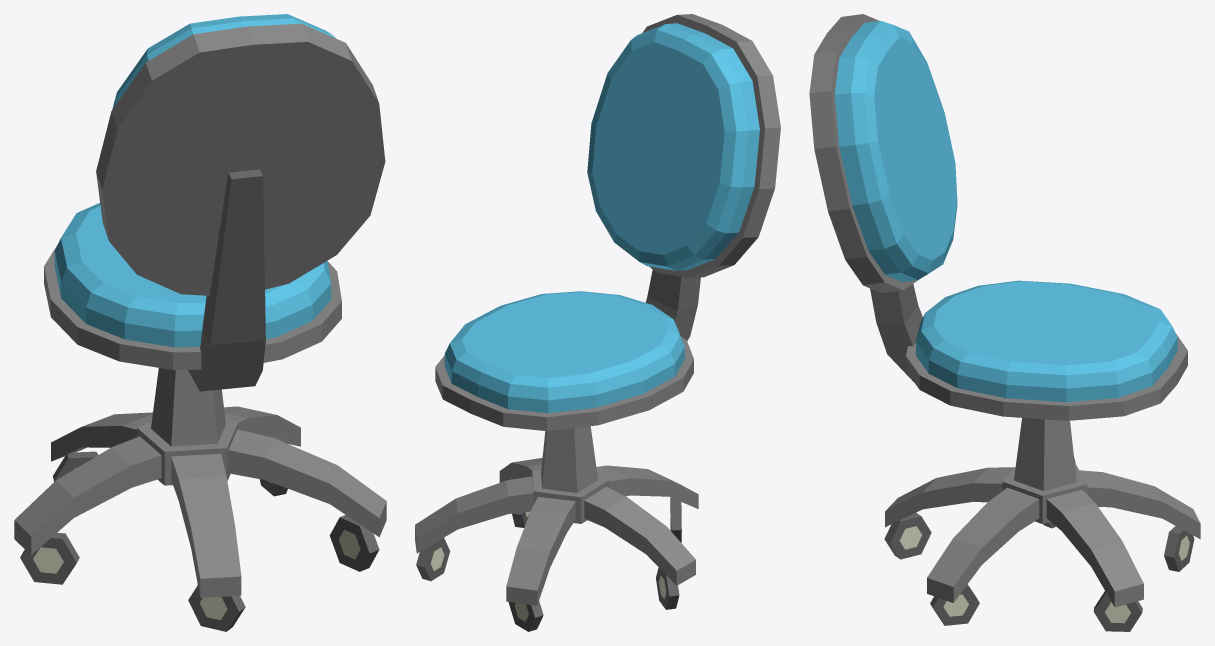
The model's file is chair02-hospital.fbx.
The picture shows the model from 3 angles, left to right: view 1: azimuth 30°, elevation 25°; view 2: azimuth 150°, elevation 25°; view 3: azimuth 270°, elevation 25°; orthographic projection. The views are drawn at different scales.
Visible parts, largest first — view 1: chair02-hospital; view 2: chair02-hospital; view 3: chair02-hospital.
Boxes of the visible parts, <box> form: chair02-hospital: <box>14,14,386,631</box>; chair02-hospital: <box>415,14,780,631</box>; chair02-hospital: <box>809,14,1200,631</box>.
Size of the model in its own units: 160 by 293 by 198.
